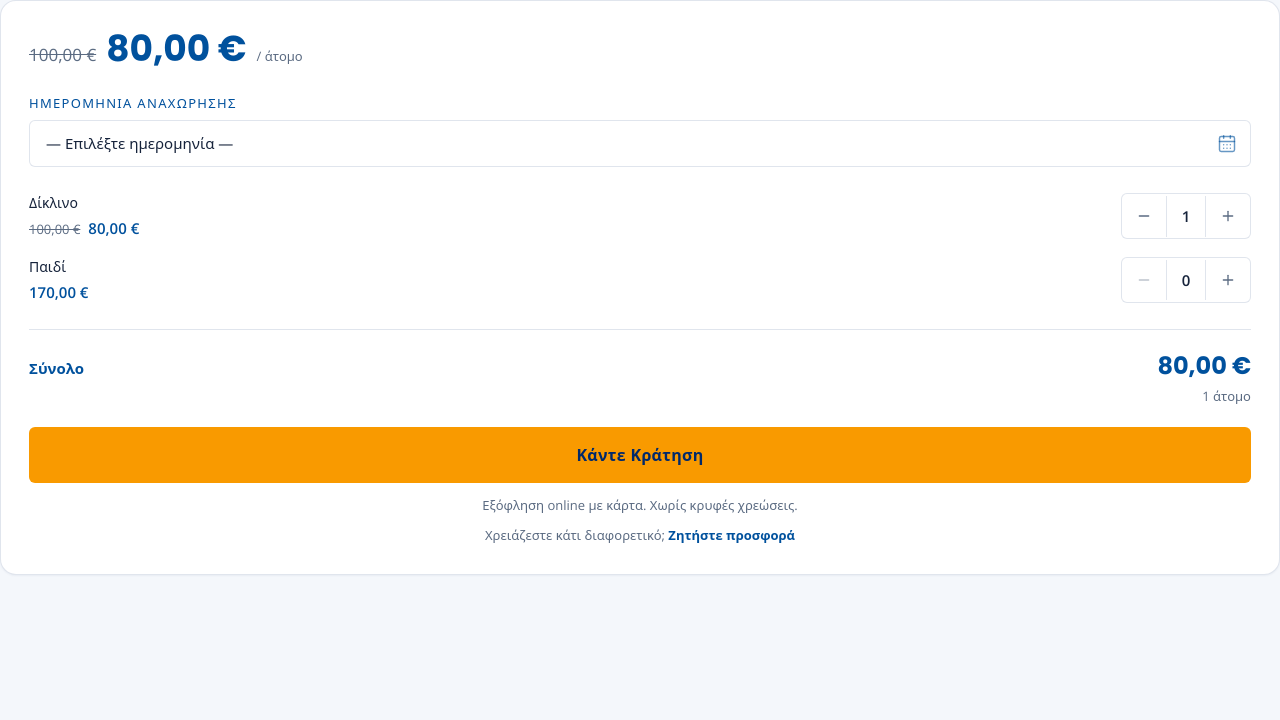
Test: TourBookingWidget › η αύξηση ατόμων ενημερώνει σύνολο και πλήθος
What coordinates should you click on to do the following:
click the button named "Αύξηση, Παιδί"
I would click on:
 (1228, 280)
Its box is [1206,258,1250,302].
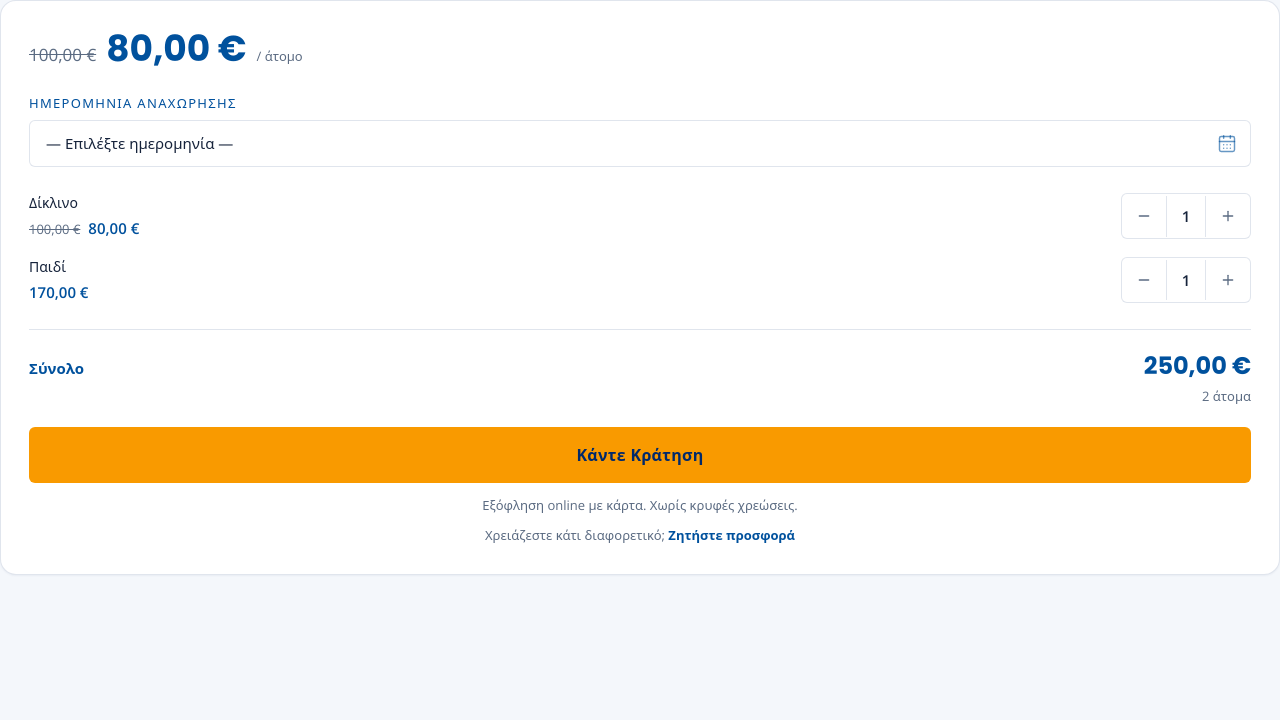
Result: the text "2 άτομα" is shown at [1202,387,1251,405]
